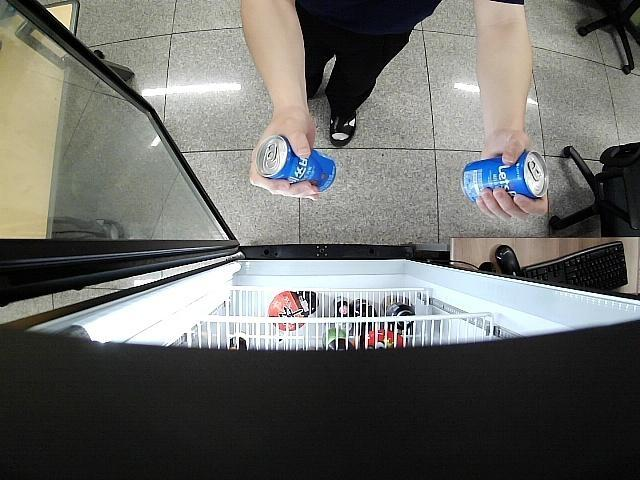15_letsbe: (461, 150, 549, 206), (255, 134, 336, 192)
